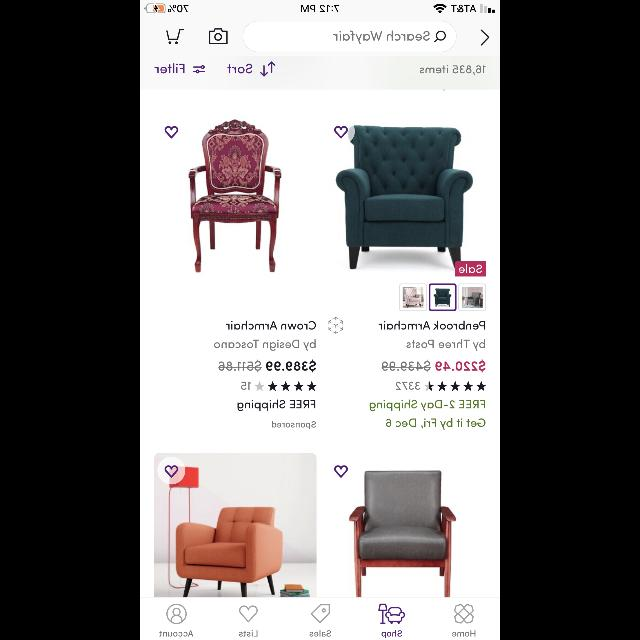icon: (158, 458, 185, 484), (424, 382, 486, 391), (256, 382, 316, 391), (166, 604, 186, 624), (310, 604, 330, 624), (208, 29, 228, 45), (240, 606, 258, 622), (166, 30, 184, 44), (260, 62, 276, 76), (334, 466, 348, 478), (334, 127, 348, 139), (165, 127, 178, 139), (434, 31, 446, 43), (481, 30, 489, 46), (193, 65, 205, 73)
image: (154, 453, 316, 597), (336, 126, 486, 276), (188, 120, 282, 272), (349, 471, 455, 597), (458, 284, 486, 312), (399, 284, 426, 312), (428, 284, 456, 310), (378, 604, 404, 624), (454, 604, 474, 624), (329, 318, 343, 334)
input: (242, 22, 456, 52)
text: (382, 360, 484, 372), (218, 360, 316, 372), (333, 32, 429, 44), (370, 400, 484, 410), (386, 418, 486, 429), (378, 320, 484, 330), (214, 340, 316, 350), (226, 320, 316, 330), (407, 340, 485, 350), (238, 400, 314, 410), (420, 65, 484, 75), (272, 421, 316, 429), (155, 63, 185, 73), (228, 64, 252, 74), (160, 630, 192, 636), (396, 382, 420, 390), (382, 630, 402, 638), (452, 631, 476, 637), (310, 630, 330, 636), (239, 630, 257, 636), (241, 382, 251, 390)
uppertaskbar: (140, 0, 500, 14)
